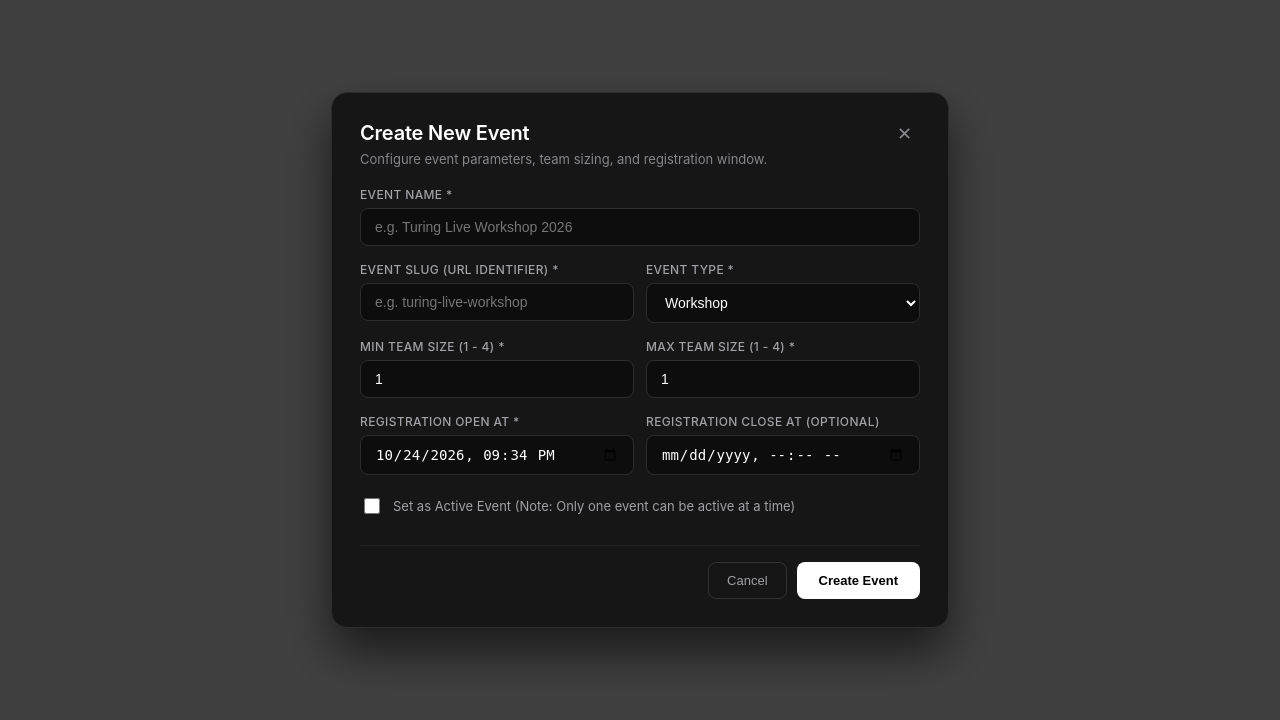
it: CreateEventModal Tests › shows an error when API returns failure
In the field with placeholder "e.g. Turing Live Workshop 2026": x=640, y=227 [360,208,920,246], type "Duplicate Event"
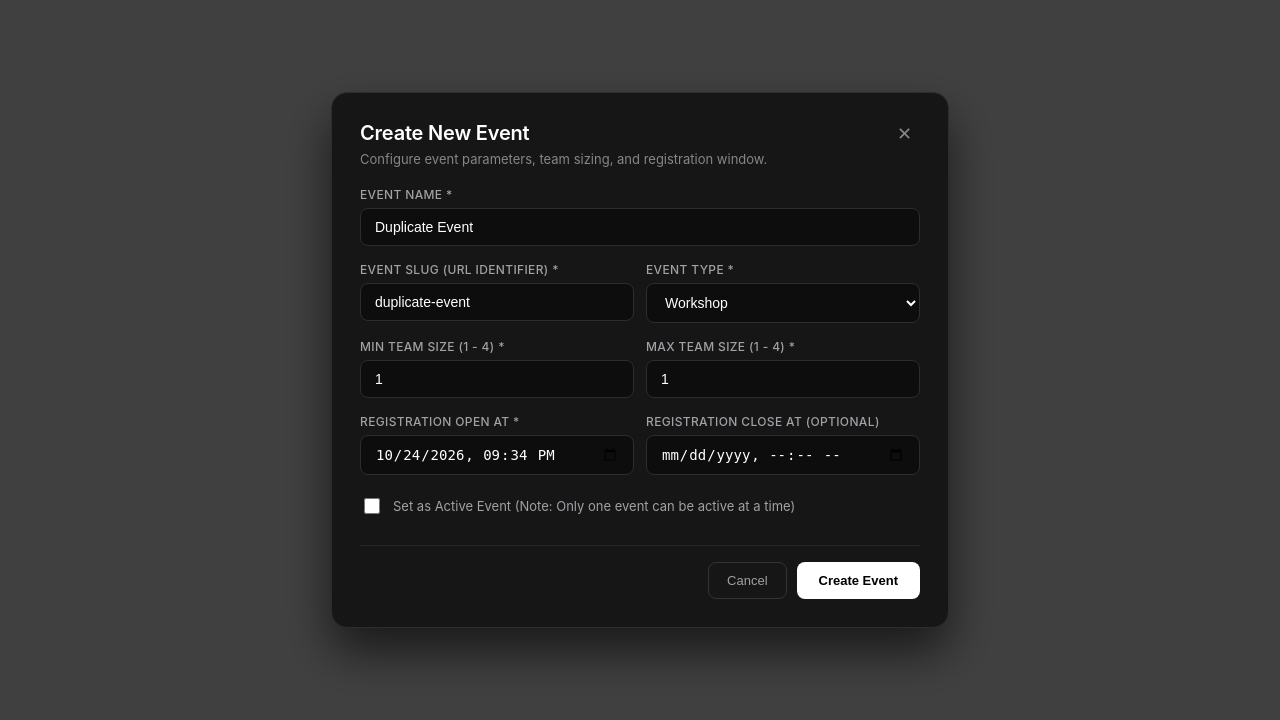
Click the button "Create Event": x=858, y=580 [796,562,920,599]
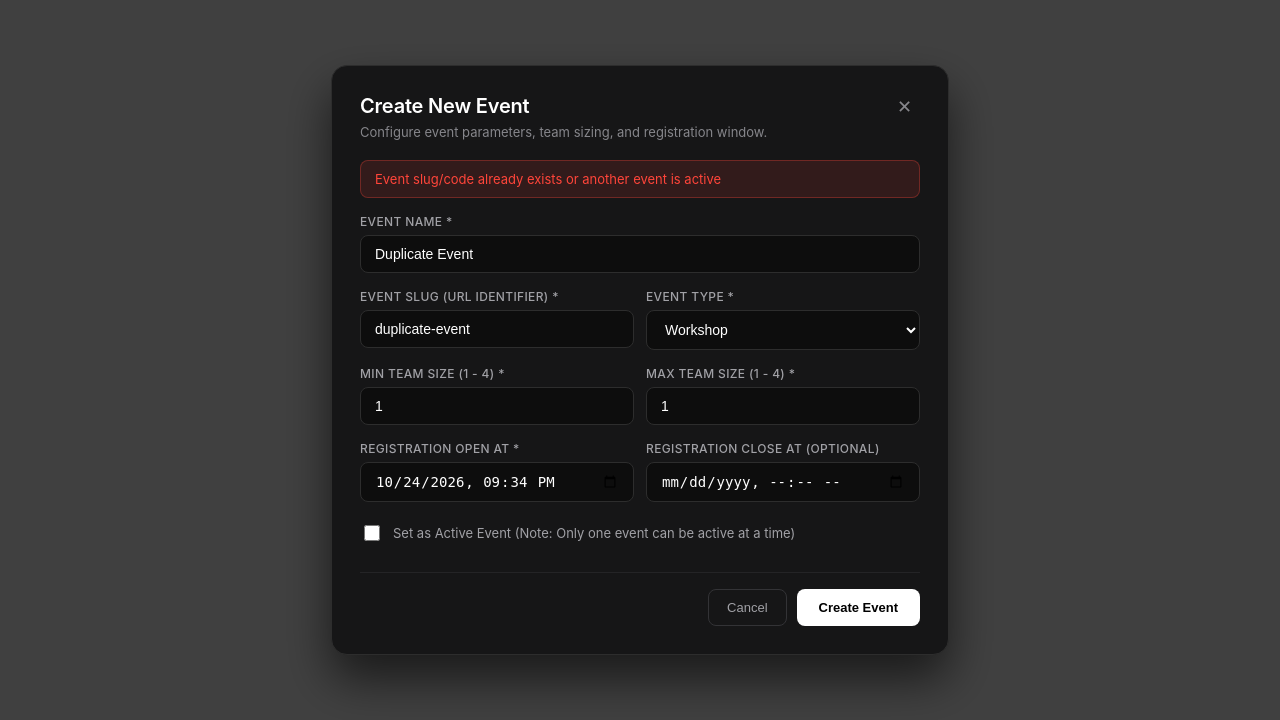
Now the text "Event slug/code already exists or another event is active" is shown, box [360,160,920,198]
